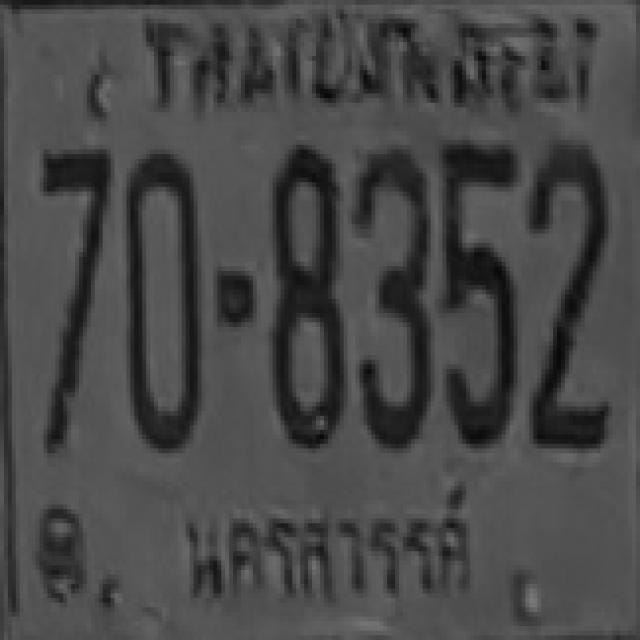2: (528, 140, 606, 378)
3: (354, 187, 428, 444)
5: (440, 140, 516, 308)
7: (40, 147, 110, 320)
NakhonSawan: (169, 478, 500, 618)
